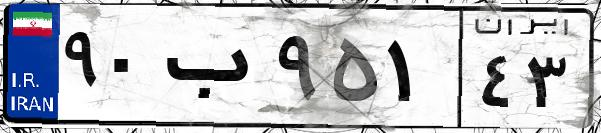0: (110, 28, 158, 98)
1: (385, 28, 445, 110)
3: (525, 38, 570, 115)
4: (475, 38, 525, 113)
5: (330, 28, 385, 110)
9: (270, 28, 330, 110), (57, 26, 110, 100)
ب: (158, 20, 270, 120)
